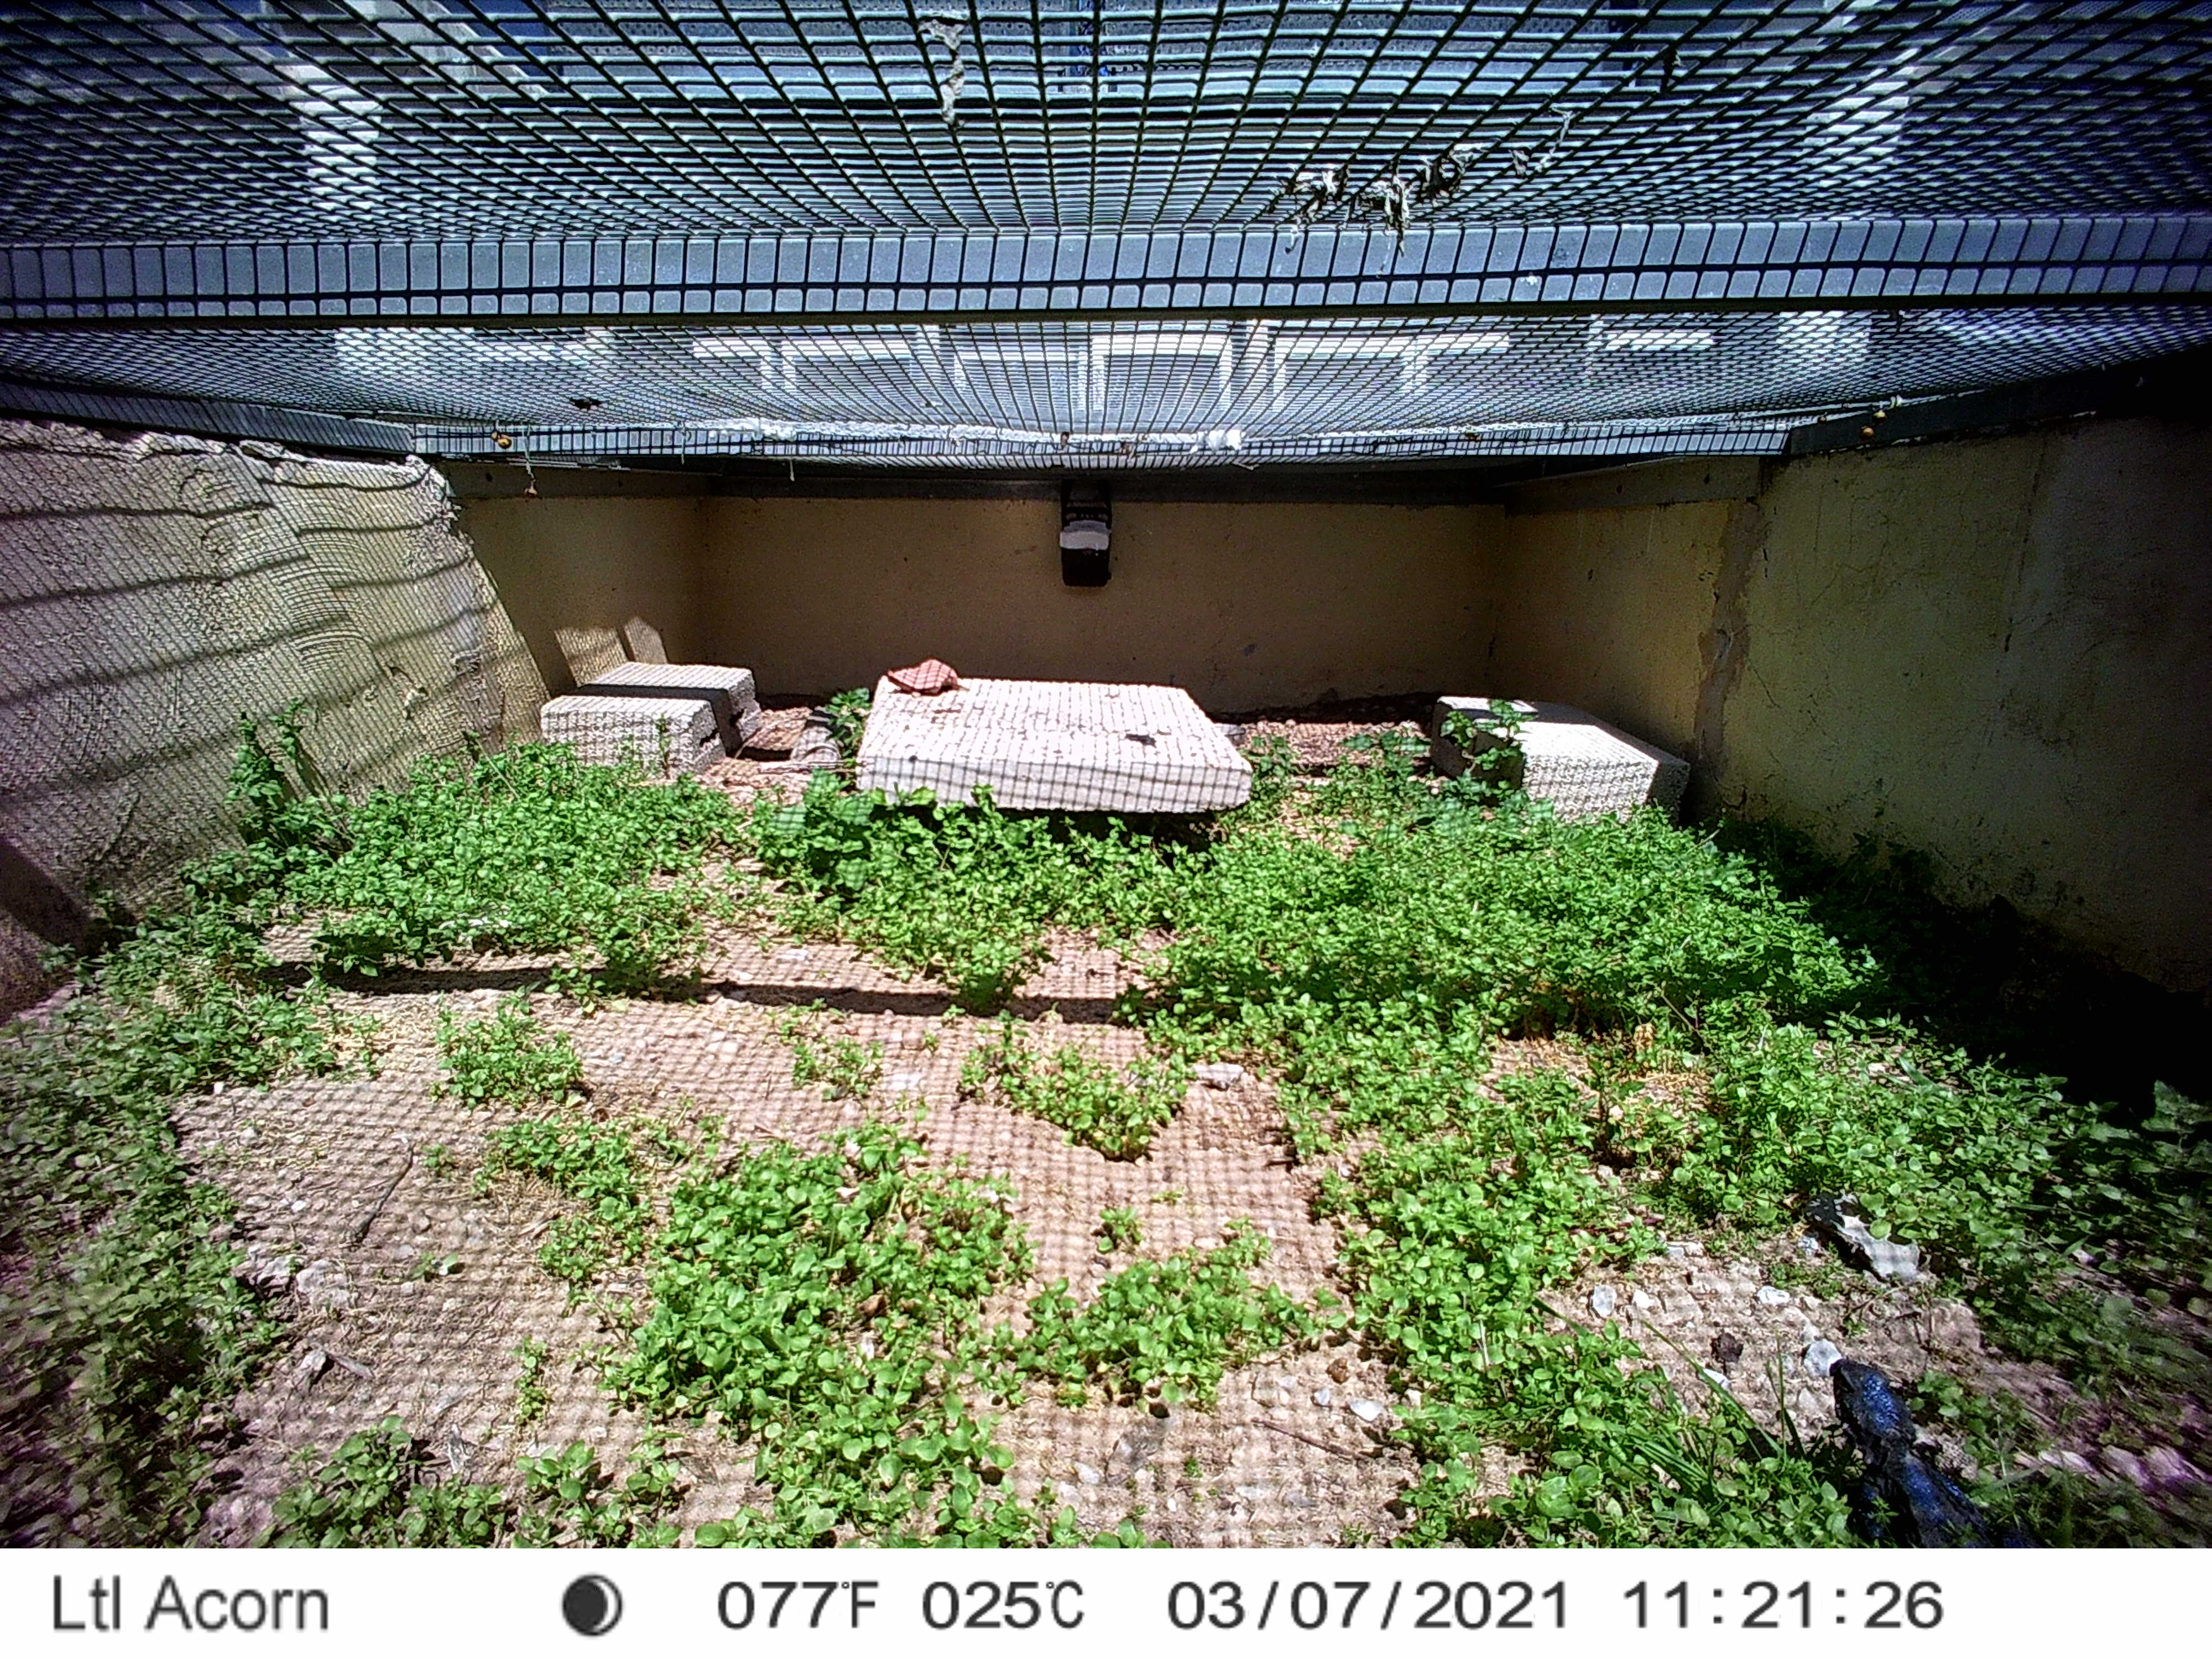lizard: (1822, 1352, 2026, 1549)
